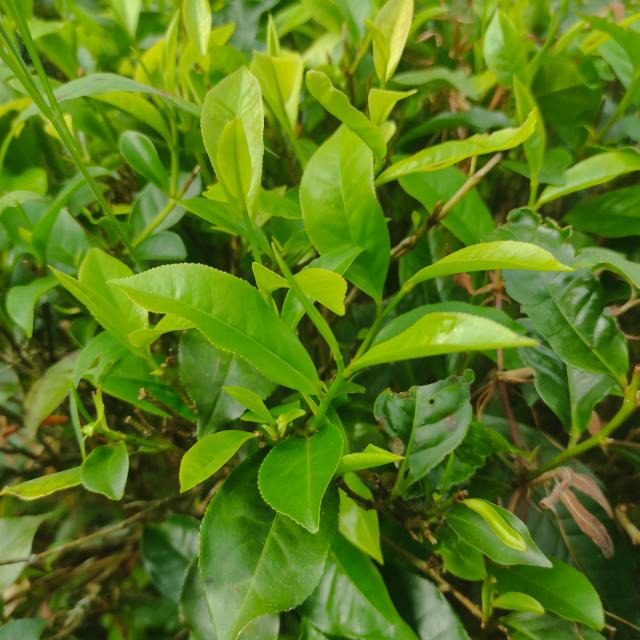unopened_leaf: (262, 233, 348, 379), (120, 37, 178, 130), (358, 16, 394, 66)
